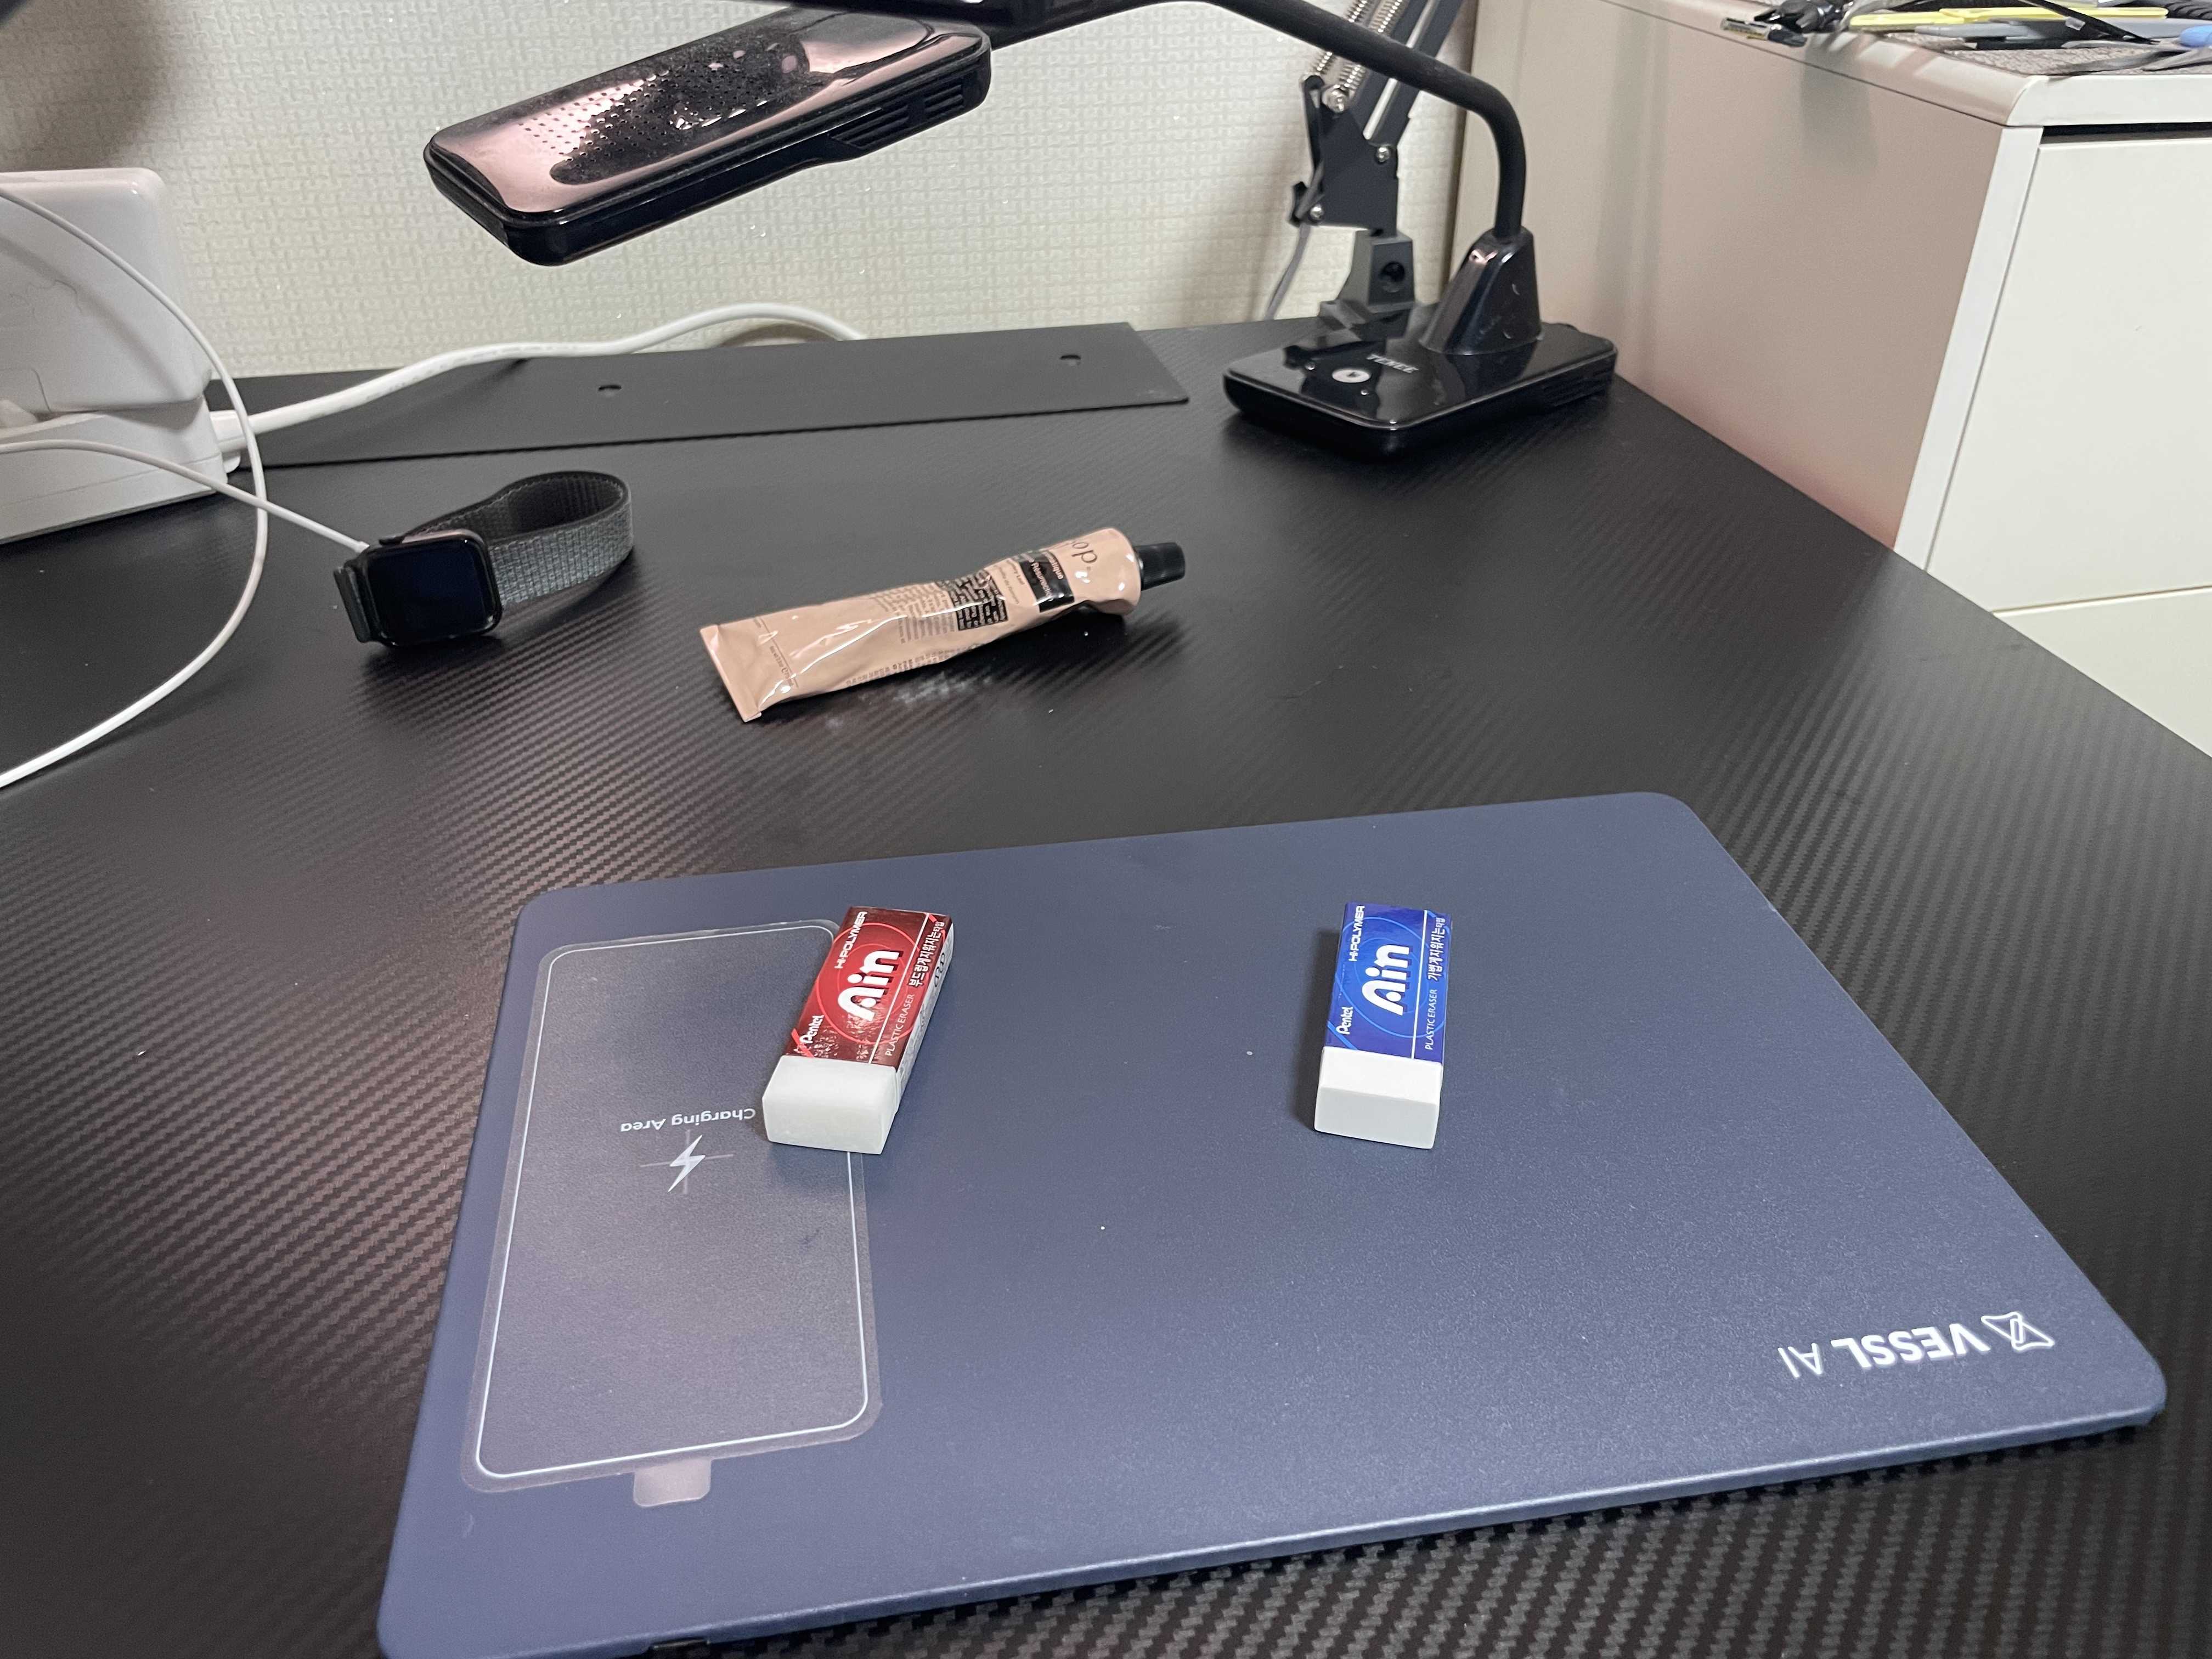blue: (1277, 875, 1479, 1173)
red: (749, 878, 975, 1176)
